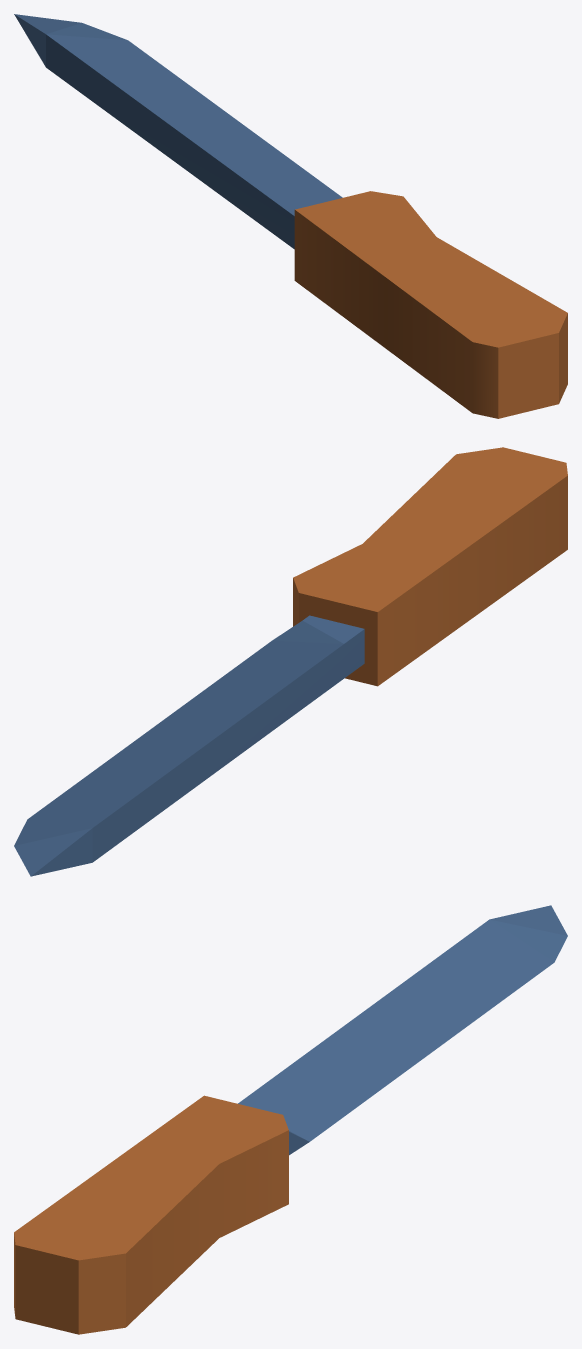
File: Knife.fbx
3 renders of one model, top to bottom at view 1: azimuth 30°, elevation 25°; view 2: azimuth 150°, elevation 25°; view 3: azimuth 330°, elevation 25°, orthographic. The views are drawn at different scales.
Parts seen in each view (by area): view 1: Knife; view 2: Knife; view 3: Knife.
Part boxes in pixels (x1,y1,x2,y2): Knife: (14,14,567,418); Knife: (14,447,567,876); Knife: (14,905,567,1334).
Size of the model in its own units: 2.58 by 1.73 by 22.
